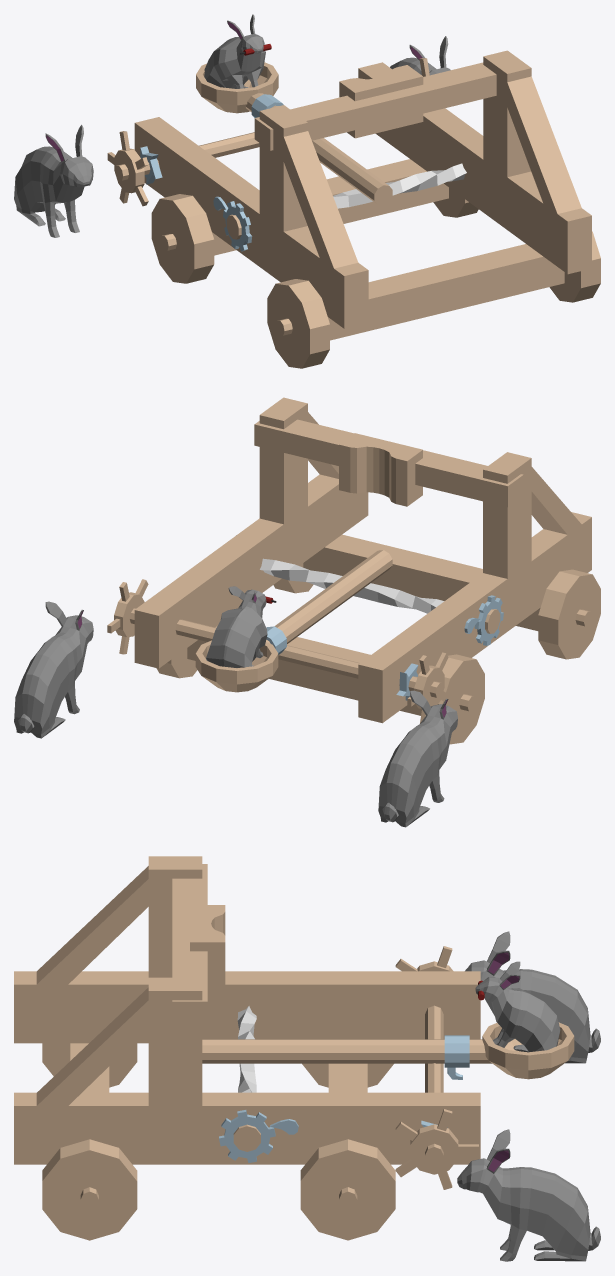
The model's file is rabbit.fbx.
3 renders of one model, top to bottom at view 1: azimuth 30°, elevation 25°; view 2: azimuth 150°, elevation 25°; view 3: azimuth 270°, elevation 25°, orthographic. The views are drawn at different scales.
Parts seen in each view (by area): view 1: Catapult.001; view 2: Catapult.001; view 3: Catapult.001.
Boxes of the visible parts, x1,y1,x2,y2 form: Catapult.001: [14, 14, 600, 368]; Catapult.001: [14, 397, 600, 827]; Catapult.001: [14, 856, 600, 1261].
Bounding box in the file's own units: 114 × 57.88 × 129.
